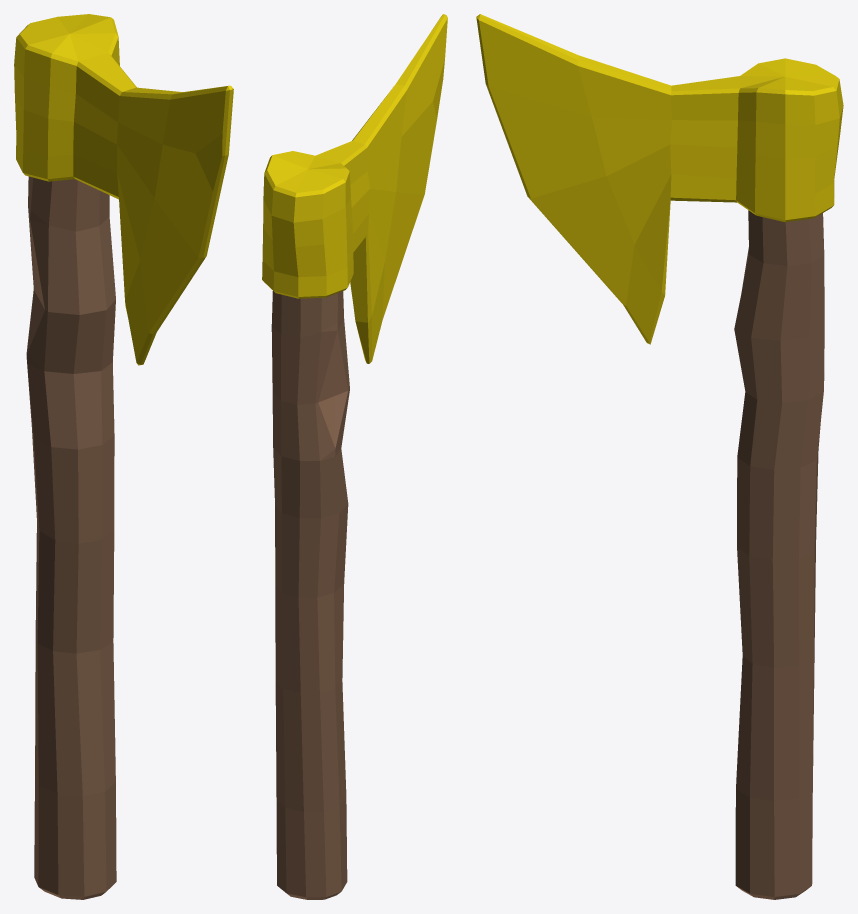
File: Axe_02_Gold.fbx
3 views of the same model, side by side, from view 1: azimuth 30°, elevation 25°; view 2: azimuth 150°, elevation 25°; view 3: azimuth 270°, elevation 25° (orthographic). The views are drawn at different scales.
Parts seen in each view (by area): view 1: Axe_Gold; view 2: Axe_Gold; view 3: Axe_Gold.
Part boxes in pixels (left/top/right/bottom): Axe_Gold: left=14, top=14, right=233, bottom=899; Axe_Gold: left=262, top=14, right=447, bottom=899; Axe_Gold: left=476, top=14, right=843, bottom=899.
Bounding box in the file's own units: 13.94 × 130 × 49.54.
